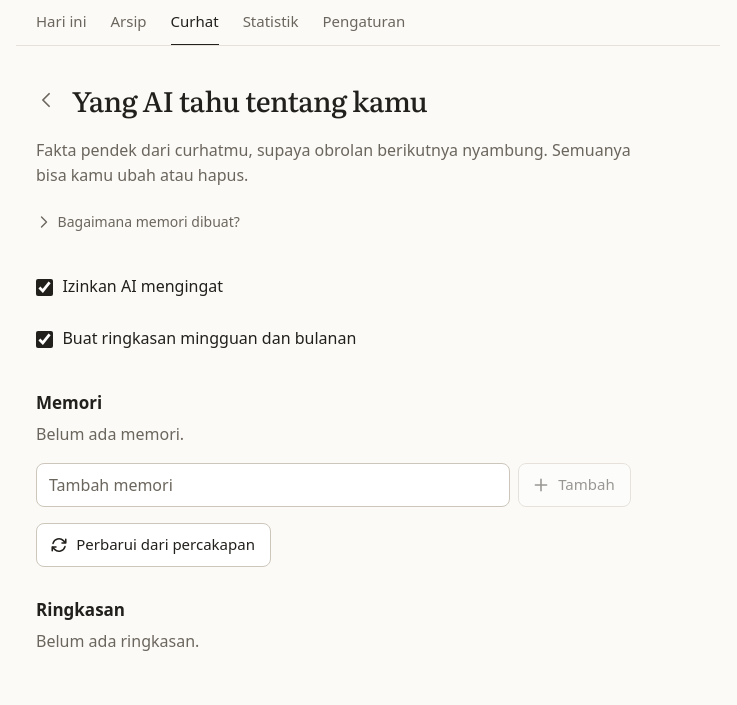
refresh reports nothing to do and provider errors
Click the button "Perbarui dari percakapan": (154, 545) [36,523,271,567]
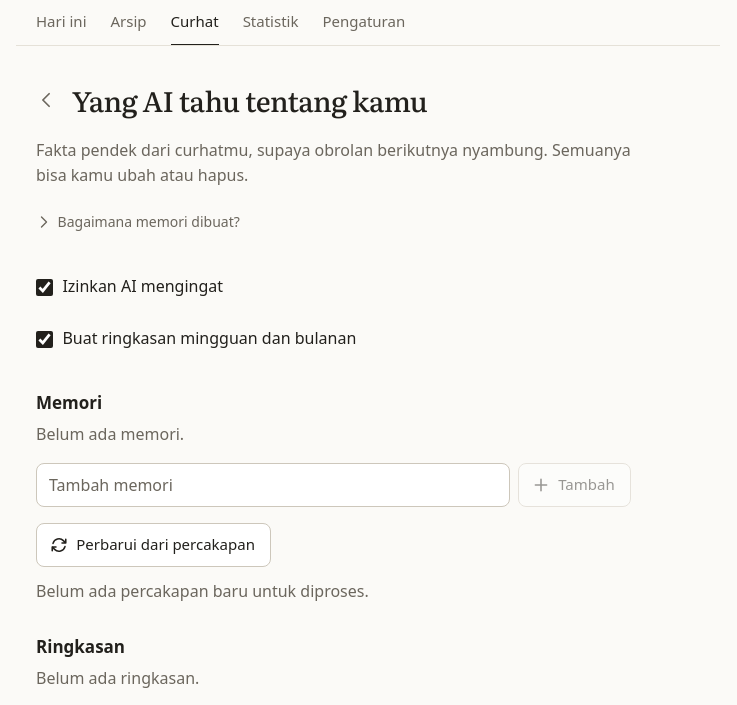
Expected: the text "Belum ada percakapan baru untuk diproses." is shown, [36,580,369,602]
